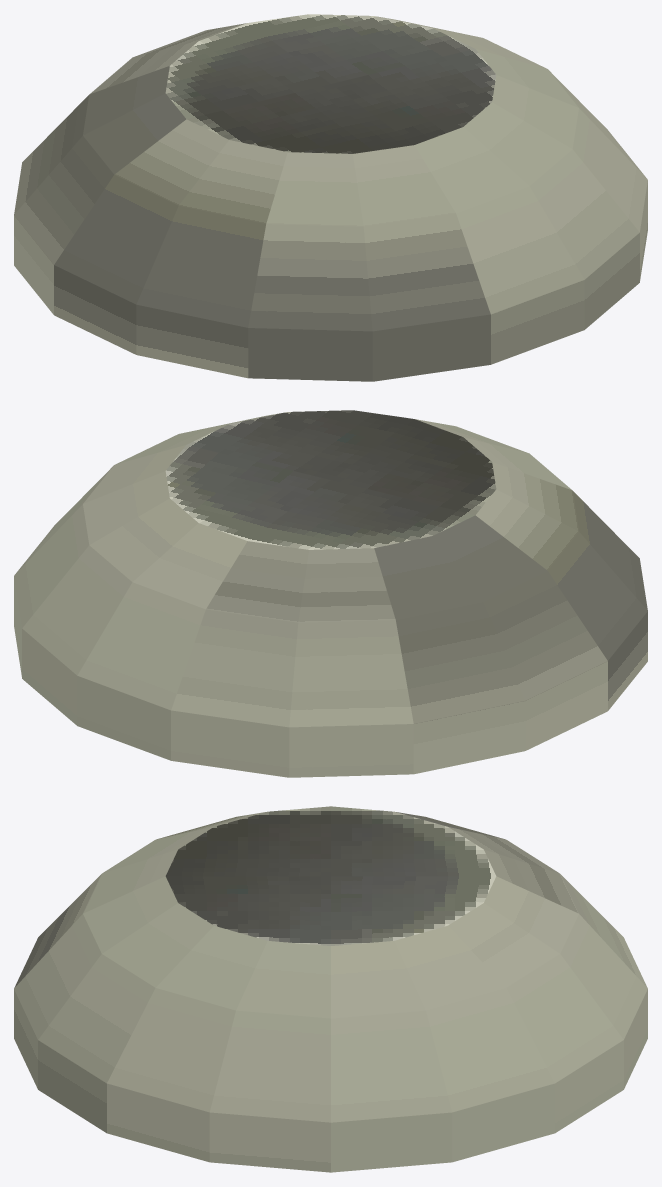
The model's file is Building_Turret_AutoMiniTurret.glb.
3 views of the same model, one above another, from view 1: azimuth 30°, elevation 25°; view 2: azimuth 150°, elevation 25°; view 3: azimuth 270°, elevation 25° (orthographic).
Visible parts, largest first — view 1: Turret_AutoMiniTurret; view 2: Turret_AutoMiniTurret; view 3: Turret_AutoMiniTurret.
Part boxes in pixels (<box>): Turret_AutoMiniTurret: <box>14,14,647,381</box>; Turret_AutoMiniTurret: <box>14,410,647,777</box>; Turret_AutoMiniTurret: <box>14,806,647,1172</box>.
Bounding box in the file's own units: 0.92 × 0.26 × 0.92.
Materials: 1 (1 with a texture image).
